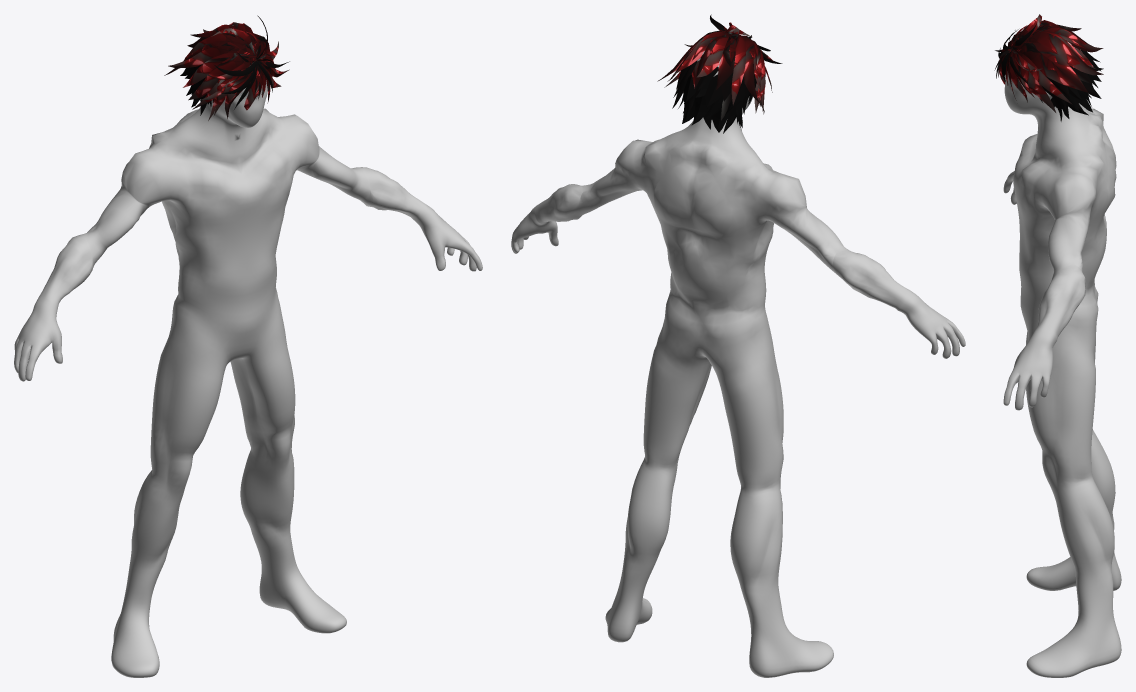
Rendered from The Freelancers rig (With suit on).obj.
The picture shows the model from 3 angles, left to right: view 1: azimuth 30°, elevation 25°; view 2: azimuth 150°, elevation 25°; view 3: azimuth 270°, elevation 25°; orthographic projection. The views are drawn at different scales.
Visible parts, largest first — view 1: lowman_shoes, Doppo_Hair_Doppo_Hair-mesh; view 2: lowman_shoes, Doppo_Hair_Doppo_Hair-mesh; view 3: lowman_shoes, Doppo_Hair_Doppo_Hair-mesh.
Boxes of the visible parts, x1=… form: lowman_shoes: x1=14, y1=80, x2=482, y2=677; Doppo_Hair_Doppo_Hair-mesh: x1=164, y1=15, x2=289, y2=120; lowman_shoes: x1=511, y1=51, x2=965, y2=677; Doppo_Hair_Doppo_Hair-mesh: x1=657, y1=14, x2=782, y2=133; lowman_shoes: x1=1003, y1=41, x2=1121, y2=677; Doppo_Hair_Doppo_Hair-mesh: x1=994, y1=14, x2=1103, y2=121.
Size of the model in its own units: 4.62 by 6.15 by 1.15.
